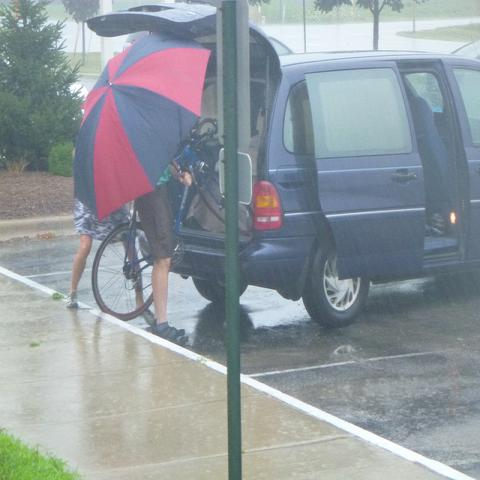car: (90, 0, 478, 327)
